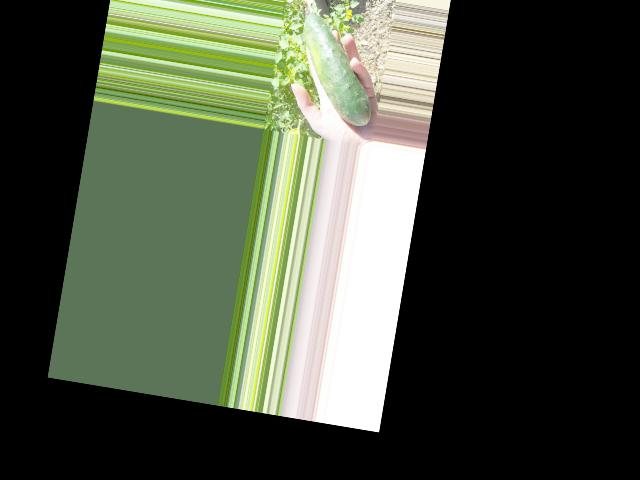cucumber: (289, 11, 385, 126)
